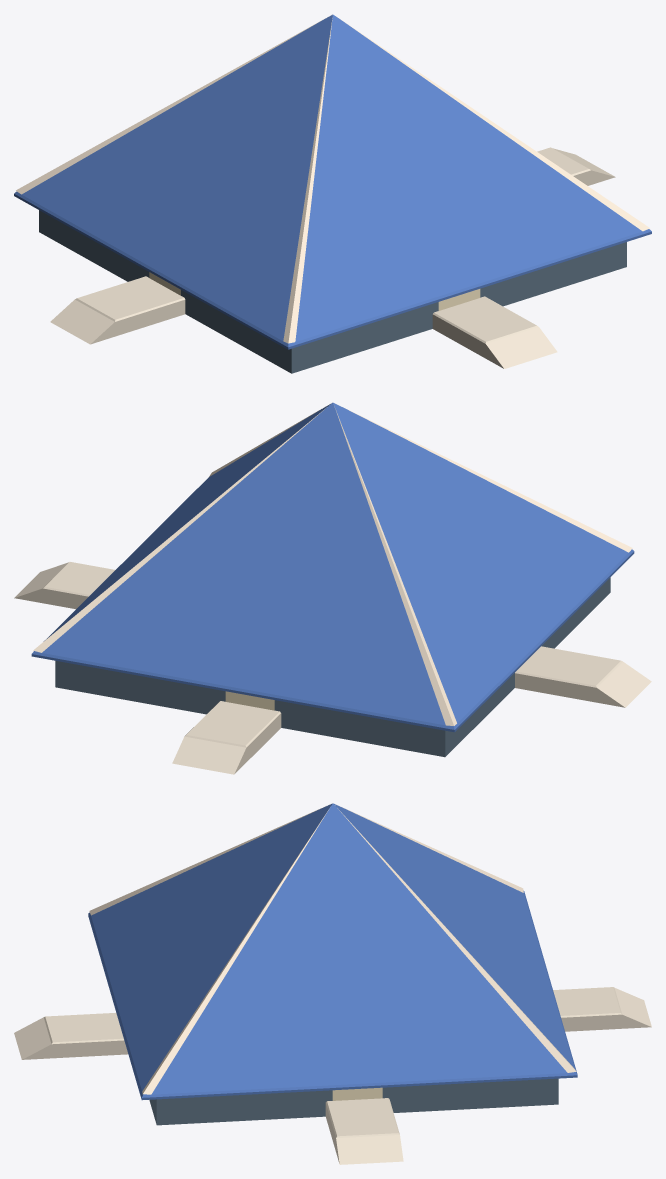
The model's file is detail.glb.
The picture shows the model from 3 angles, top to bottom: view 1: azimuth 30°, elevation 25°; view 2: azimuth 150°, elevation 25°; view 3: azimuth 270°, elevation 25°; orthographic projection. The views are drawn at different scales.
Parts seen in each view (by area): view 1: walter-pyramid; view 2: walter-pyramid; view 3: walter-pyramid.
Boxes of the visible parts, box(x1,y1,x2,y2) form: walter-pyramid: box(14, 14, 651, 373); walter-pyramid: box(14, 402, 651, 774); walter-pyramid: box(14, 803, 651, 1164).
Bounding box in the file's own units: 139 × 54.45 × 139.
